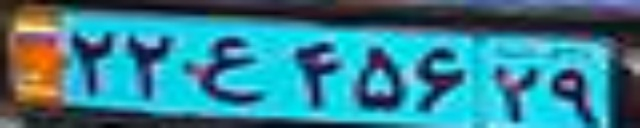2: (121, 30, 173, 101), (69, 29, 114, 97), (487, 64, 539, 122)
4: (287, 42, 346, 108)
5: (352, 45, 405, 110)
6: (413, 45, 468, 112)
9: (550, 67, 597, 125)
ain: (197, 34, 262, 105)
